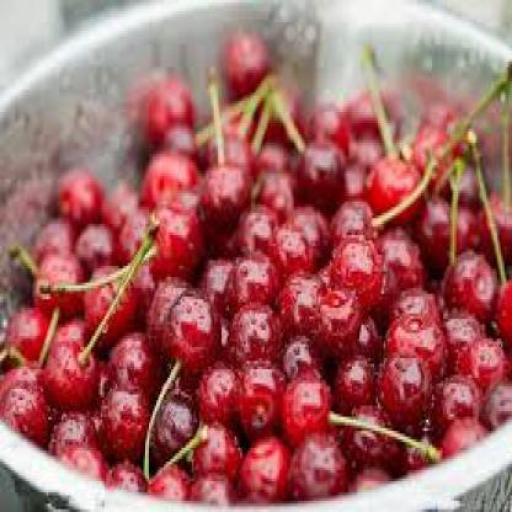biodegradable: (160, 285, 220, 381), (93, 378, 151, 464), (144, 193, 202, 277), (411, 106, 462, 196), (376, 352, 433, 432), (329, 229, 386, 308), (84, 258, 136, 344), (339, 400, 404, 468), (234, 353, 285, 436), (288, 132, 345, 204), (439, 246, 495, 319), (382, 311, 449, 372), (220, 249, 281, 316), (43, 330, 95, 406), (286, 425, 344, 493), (362, 154, 426, 215), (198, 159, 248, 232), (225, 296, 281, 361), (106, 330, 156, 400), (152, 380, 196, 459), (378, 223, 428, 291), (281, 364, 328, 436), (438, 305, 484, 378), (309, 285, 359, 350), (0, 380, 49, 446), (428, 372, 480, 434), (236, 434, 290, 492), (282, 201, 328, 269), (146, 75, 192, 143), (251, 84, 302, 145), (33, 252, 84, 313), (146, 271, 188, 344), (3, 302, 52, 364), (472, 190, 510, 269), (186, 417, 239, 473), (193, 358, 239, 422), (140, 148, 194, 202), (220, 31, 266, 90), (44, 408, 94, 462), (255, 86, 305, 140), (98, 171, 140, 235), (415, 193, 450, 266), (300, 95, 351, 145), (330, 352, 372, 412), (456, 333, 506, 383), (251, 162, 293, 221), (197, 251, 235, 316), (56, 168, 100, 221), (125, 246, 158, 316), (234, 199, 280, 249), (266, 218, 311, 269), (340, 80, 386, 128), (277, 328, 322, 375), (60, 433, 104, 479), (398, 425, 440, 473), (0, 358, 39, 408), (207, 126, 250, 171), (442, 411, 484, 457), (327, 196, 373, 238), (440, 154, 478, 204), (142, 456, 184, 498), (186, 465, 231, 504), (72, 221, 116, 260), (389, 282, 438, 316), (489, 274, 510, 352), (30, 218, 72, 257), (104, 453, 146, 492), (339, 458, 395, 487), (376, 263, 401, 322), (481, 378, 510, 428), (247, 137, 283, 177), (160, 118, 196, 154), (344, 128, 382, 162), (116, 216, 149, 252), (354, 305, 378, 352), (46, 313, 84, 342), (450, 201, 472, 249), (341, 157, 363, 199), (230, 486, 276, 501)
